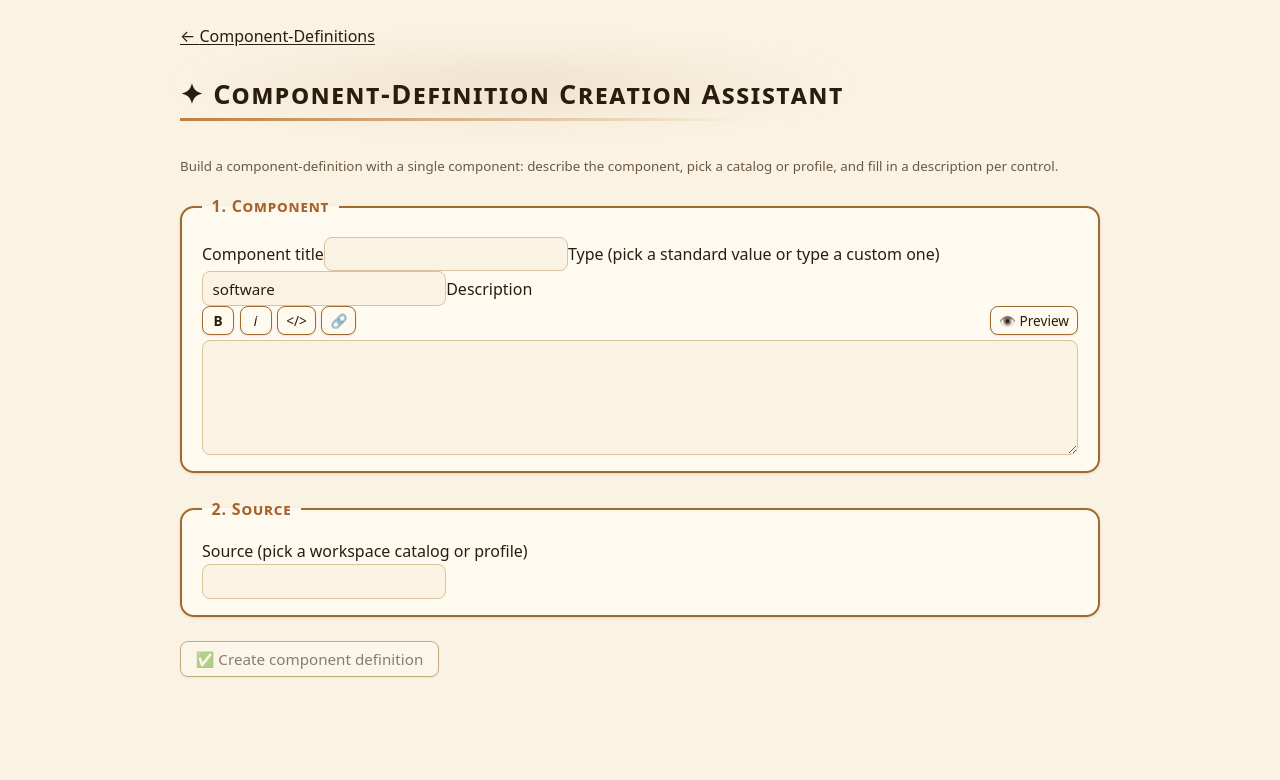
it: gating and empty state › disables create until a title and source are set
The width and height of the screenshot is (1280, 780).
Expected: the button with test id "cdefa-create" is disabled, [180,641,439,677]
Type "Firewall" into the field with test id "cdefa-component-title" at point(446, 254), box [324,236,568,271]
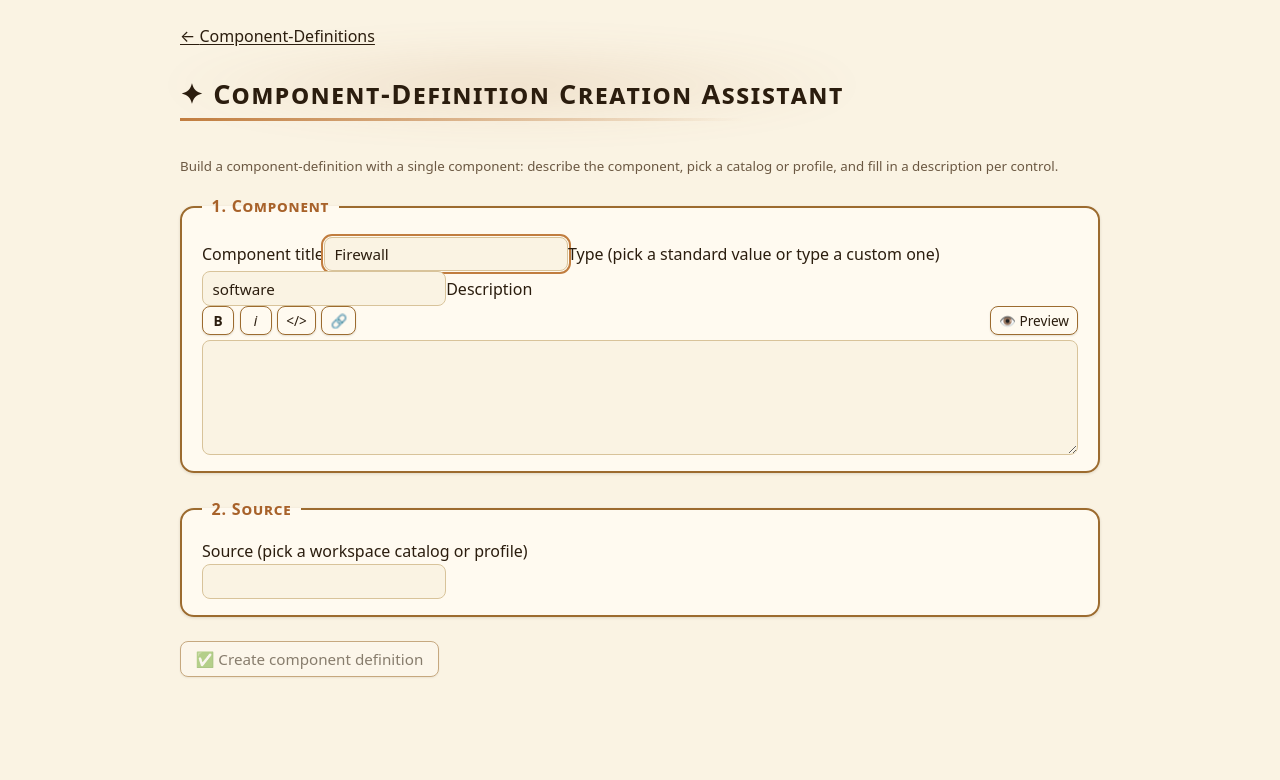
Expected: the button with test id "cdefa-create" is disabled, [180,641,439,677]
Type "Grundschutz" into the field with test id "cdefa-source-picker-input" at point(324, 581), box [202,564,446,599]
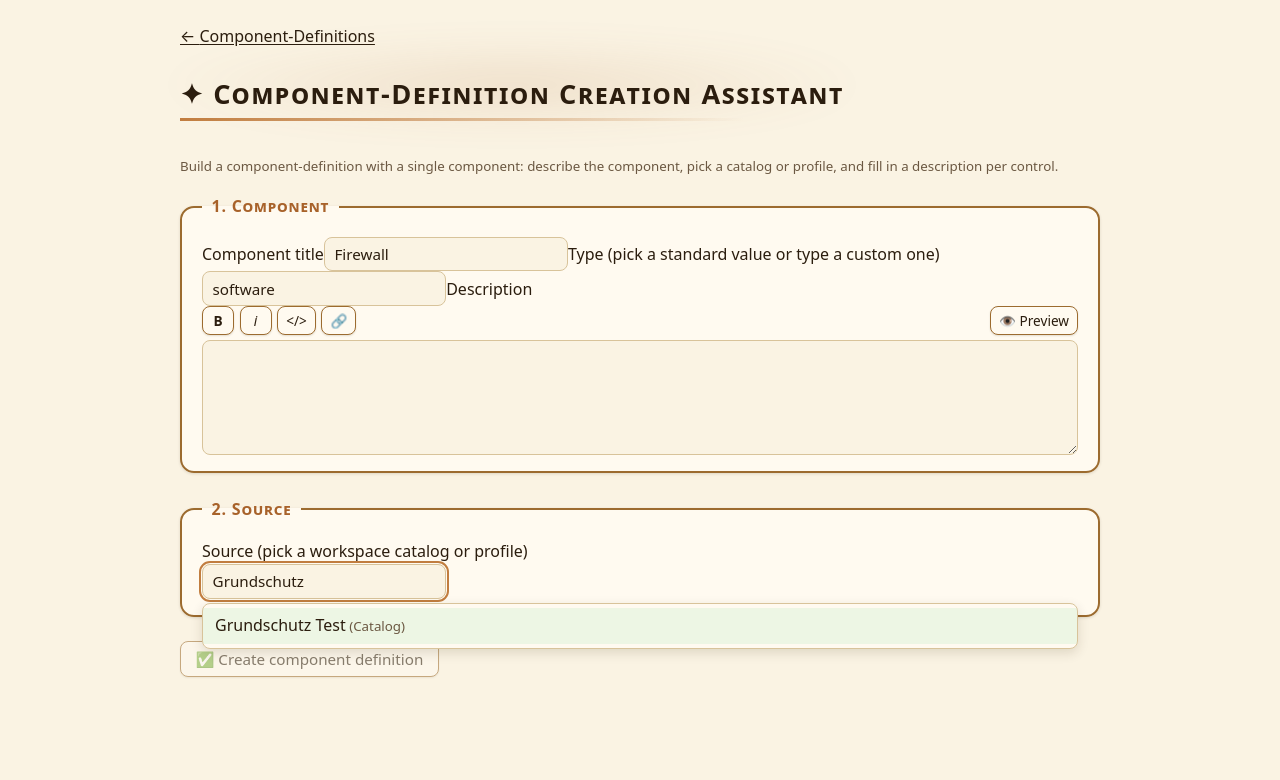
Click the list item "Grundschutz Test" at point(640, 626), box [203,608,1077,644]
(page scrolled)
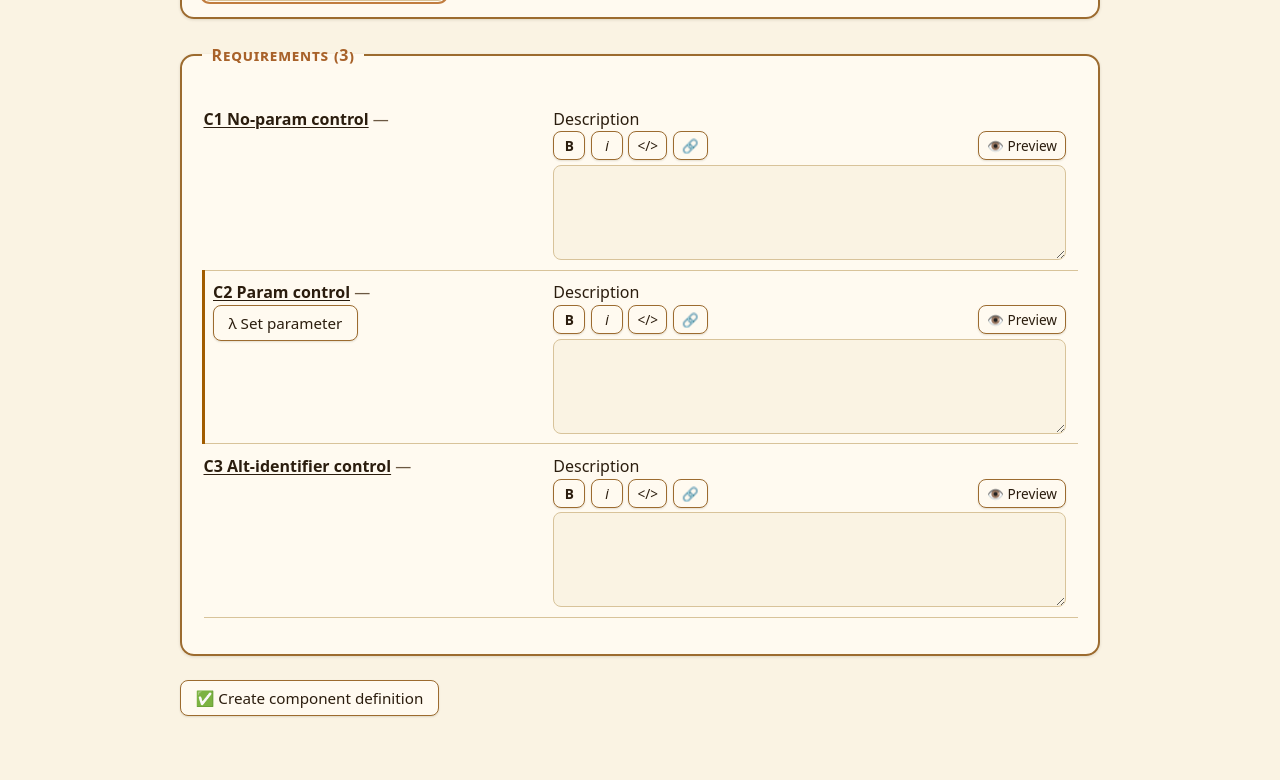
Expected: the button with test id "cdefa-create" is enabled, [180,680,439,716]
